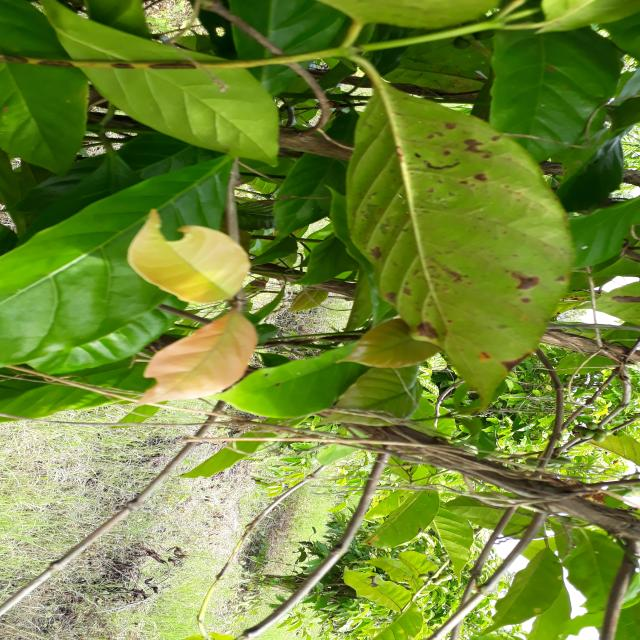Plaga-AranaRoja: (345, 56, 575, 413)
